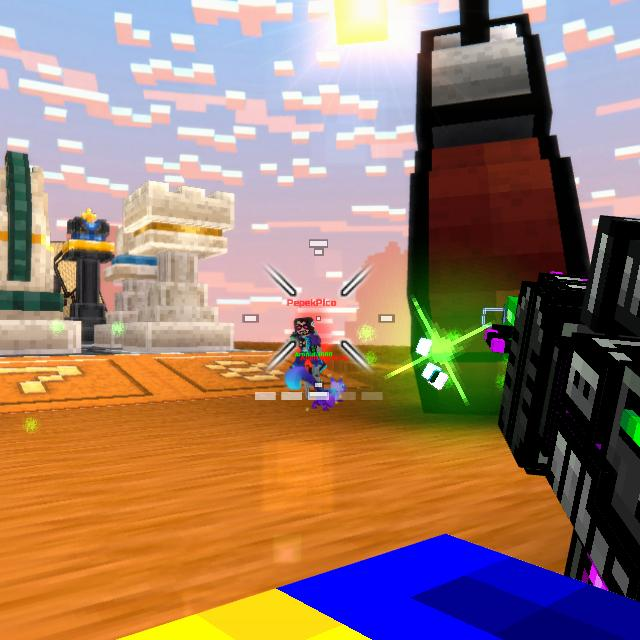Enemy: (286, 316, 322, 374)
